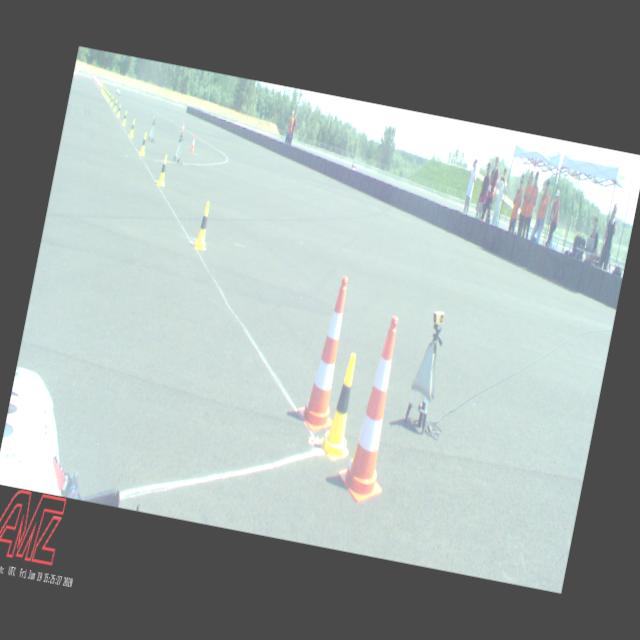large_orange_cone: (334, 310, 415, 507), (294, 272, 360, 434)
orange_cone: (190, 135, 197, 152), (180, 122, 186, 133)
yellow_cone: (316, 350, 368, 463), (194, 201, 215, 250), (156, 154, 170, 187), (139, 132, 149, 156), (129, 119, 136, 137), (122, 110, 128, 126), (116, 105, 122, 116), (114, 100, 118, 110), (110, 96, 114, 106), (108, 93, 111, 103)
